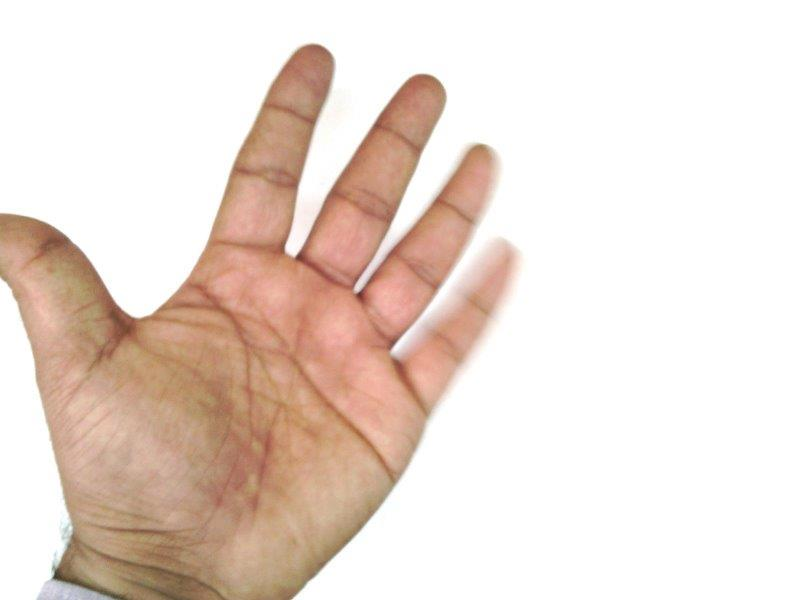hand: (1, 45, 518, 600)
